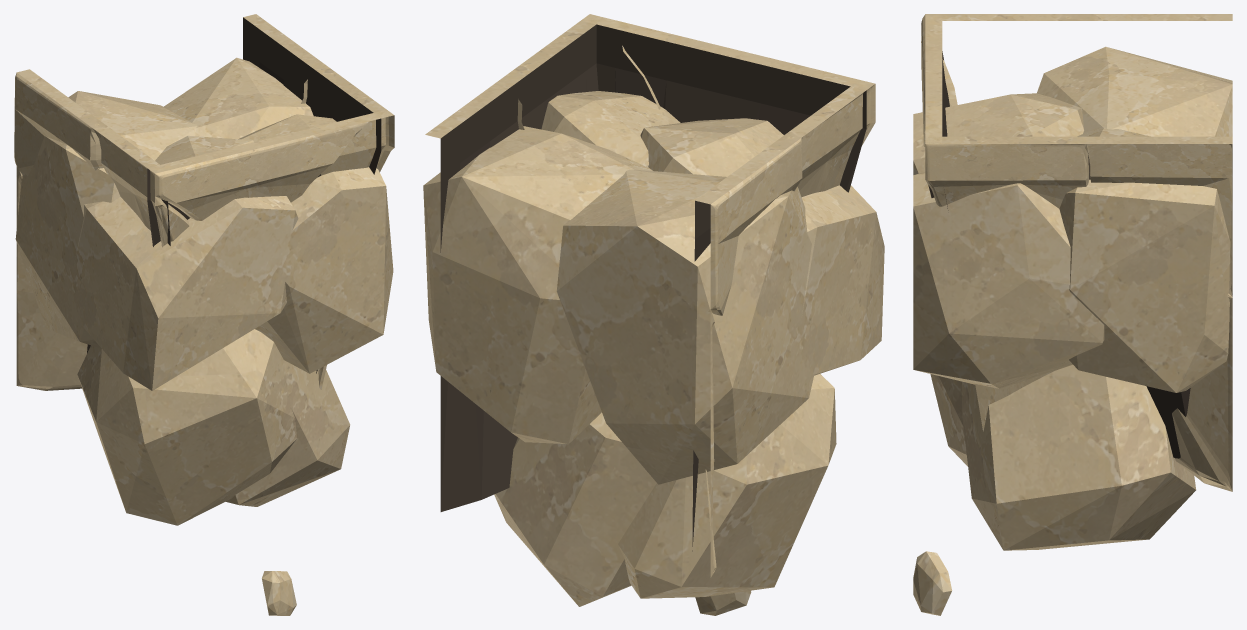
File: ground_bottom_end_01.glb
3 renders of one model, left to right at view 1: azimuth 30°, elevation 25°; view 2: azimuth 150°, elevation 25°; view 3: azimuth 270°, elevation 25°, orthographic. The views are drawn at different scales.
Parts seen in each view (by area): view 1: GroundBottomEnd01_Body; view 2: GroundBottomEnd01_Body; view 3: GroundBottomEnd01_Body.
Part boxes in pixels (<box>): GroundBottomEnd01_Body: <box>14,14,394,615</box>; GroundBottomEnd01_Body: <box>423,14,884,615</box>; GroundBottomEnd01_Body: <box>913,14,1232,615</box>.
Bounding box in the file's own units: 1.08 × 1.9 × 1.04.
13 materials, 12 textured.
